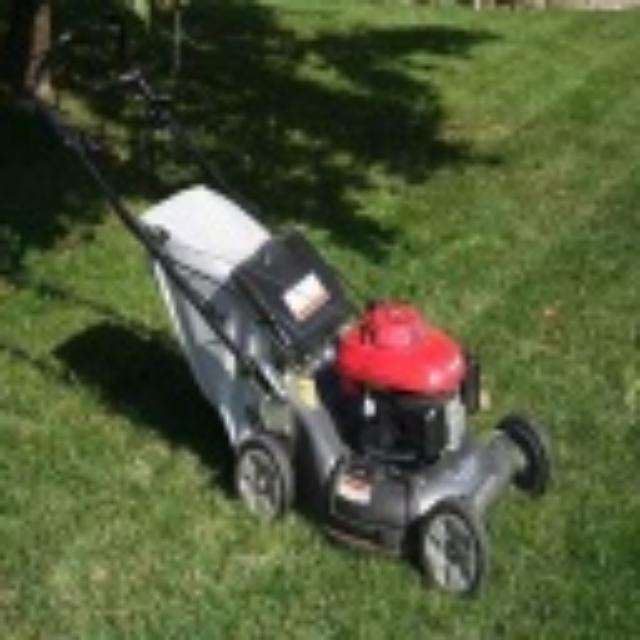Rotary-Mower: (20, 29, 550, 594)
